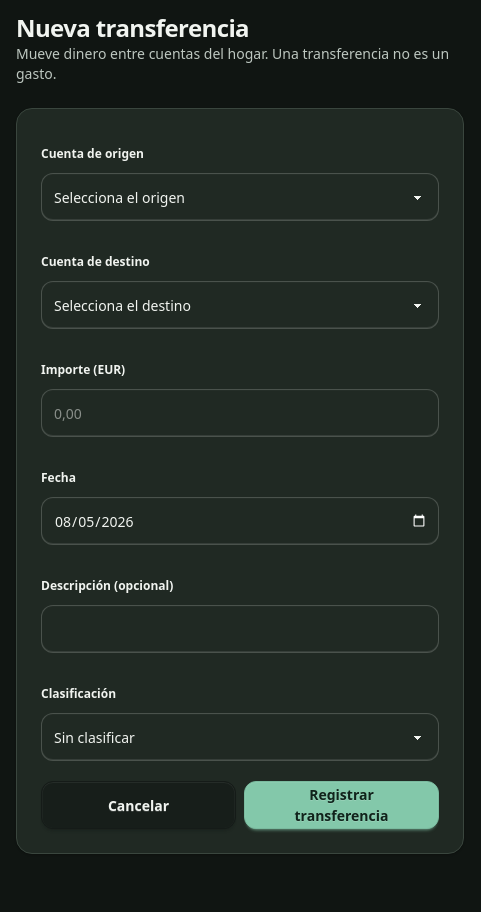
NewTransferPage › confirms the attributed member before posting a contribution
Select "Cuenta de Alex" in the dropdown labelled "Cuenta de origen" at (240, 197), box [41,173,439,221]
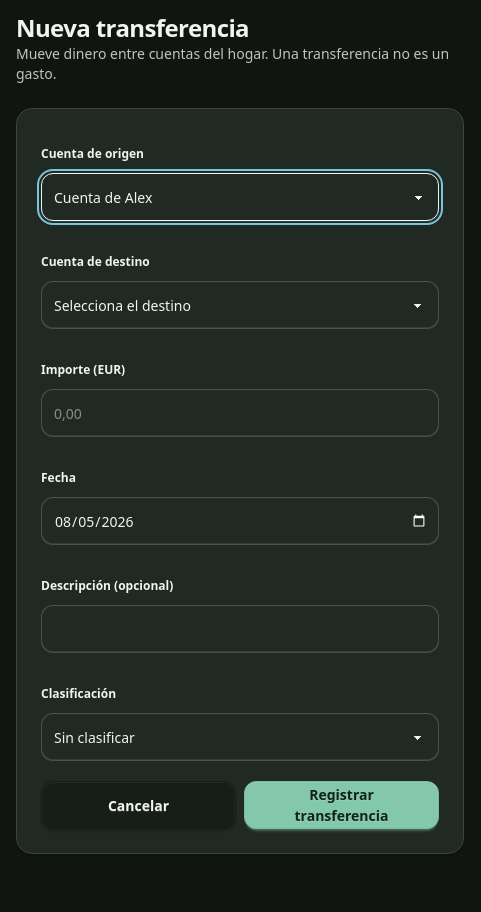
Select "Cuenta común" in the dropdown labelled "Cuenta de destino" at (240, 305), box [41,281,439,329]
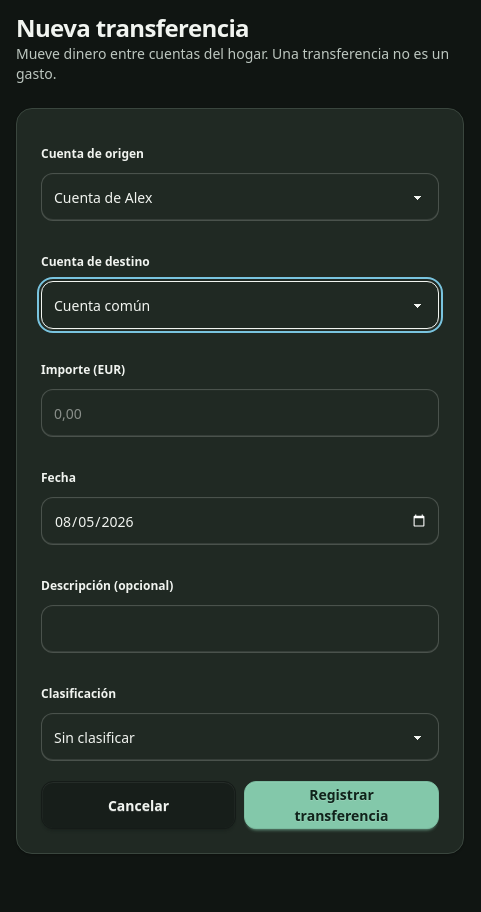
Select "Aportación" in the dropdown labelled "Clasificación" at (240, 737), box [41,713,439,761]
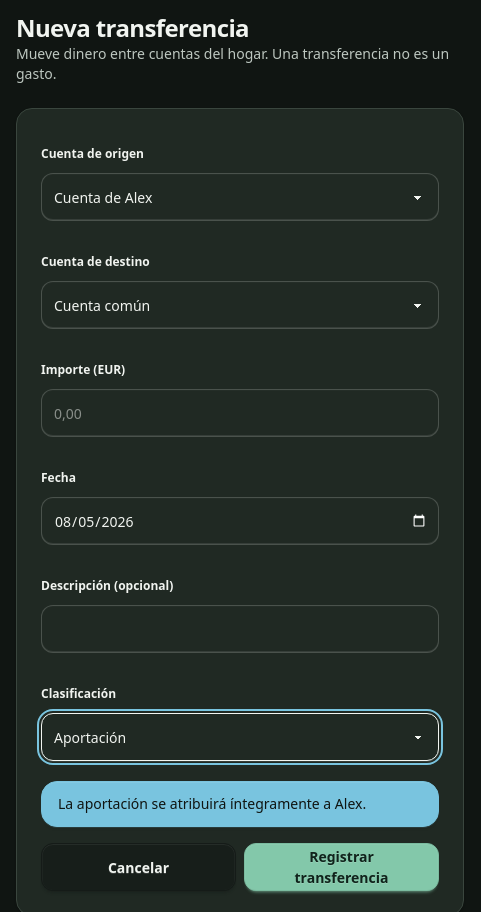
Check: the text "La aportación se atribuirá íntegramente a Alex." is shown, box [41,781,439,827]
